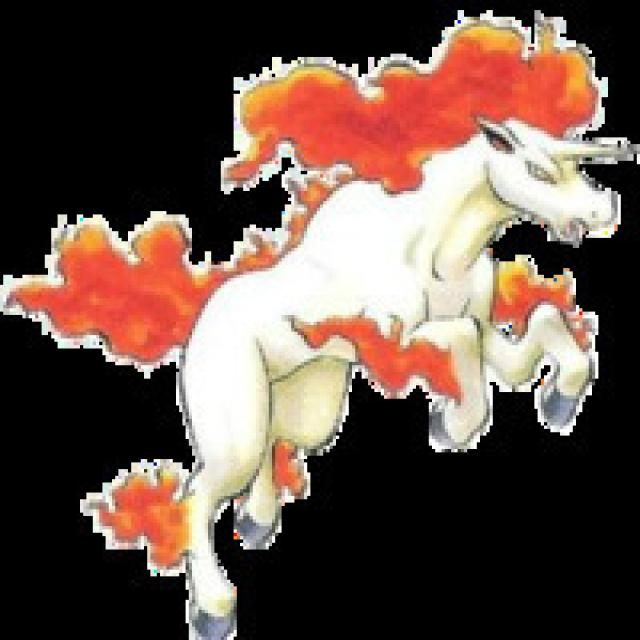Rapidash: (178, 16, 628, 514)
